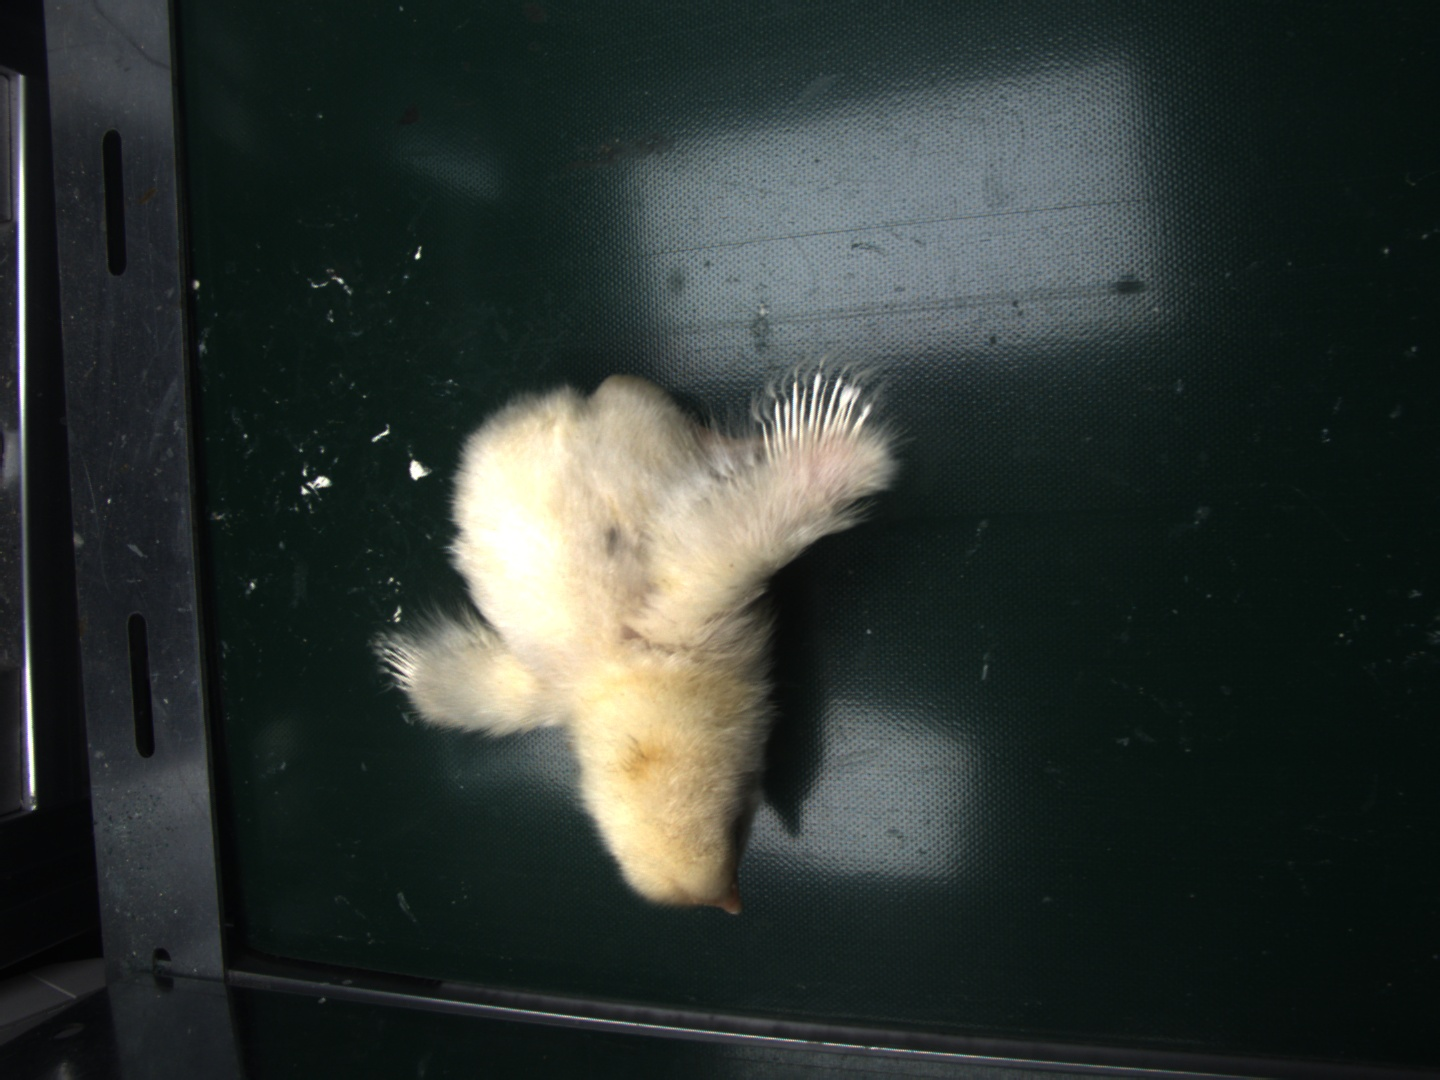male: (760, 368, 876, 457)
